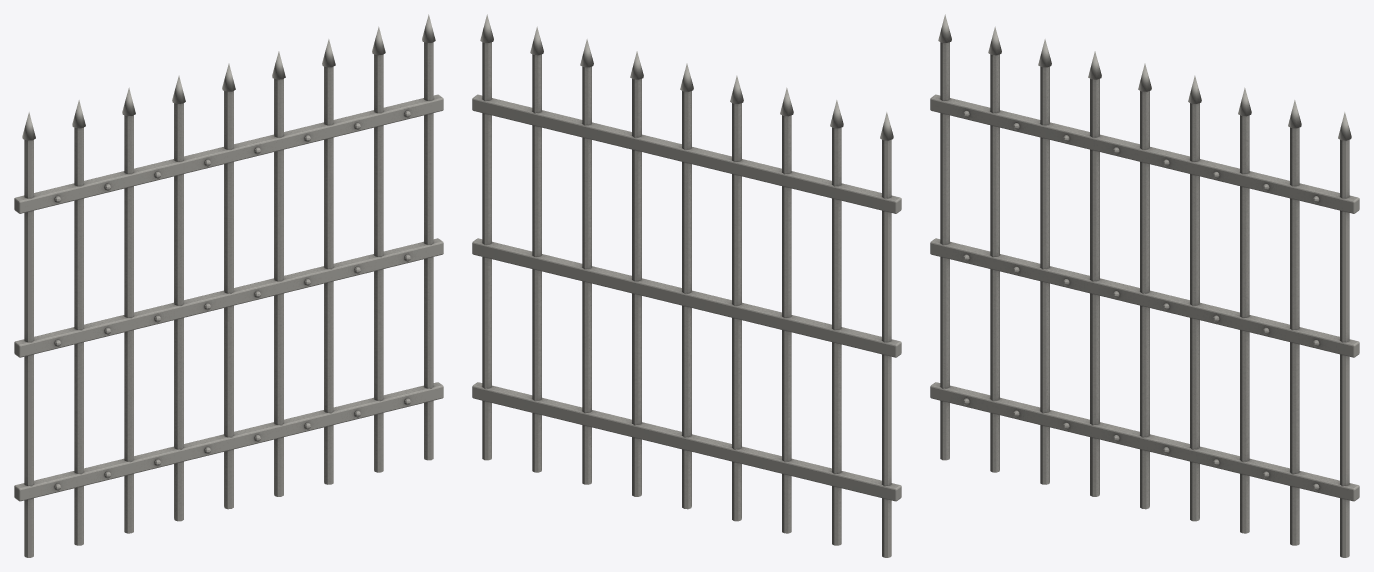
File: dg_grade_ferro.glb
The picture shows the model from 3 angles, left to right: view 1: azimuth 30°, elevation 25°; view 2: azimuth 150°, elevation 25°; view 3: azimuth 330°, elevation 25°; orthographic projection.
Visible parts, largest first — view 1: dg_grade_ferro_tronco; view 2: dg_grade_ferro_tronco; view 3: dg_grade_ferro_tronco.
Part boxes in pixels (left/top/right/bottom): dg_grade_ferro_tronco: left=14, top=14, right=443, bottom=557; dg_grade_ferro_tronco: left=472, top=14, right=901, bottom=557; dg_grade_ferro_tronco: left=930, top=14, right=1359, bottom=557.
Bounding box in the file's own units: 3.4 × 3.4 × 0.125.
1 material, 1 textured.
